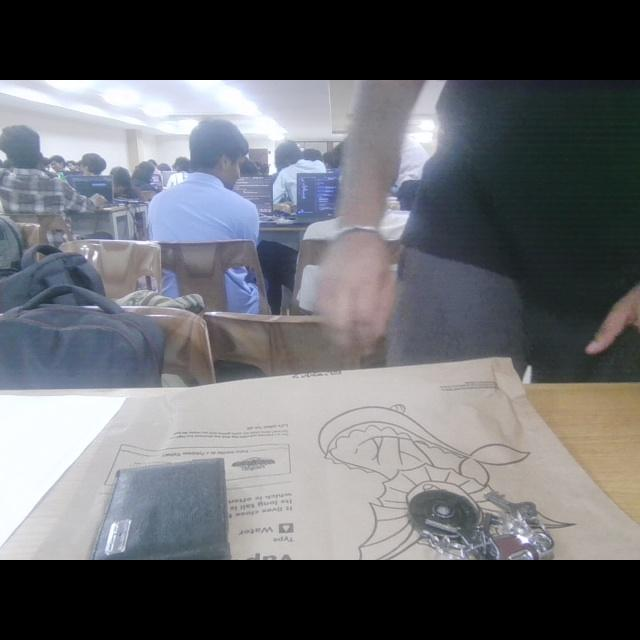keys: (380, 462, 572, 560)
wallet: (93, 440, 269, 560)
